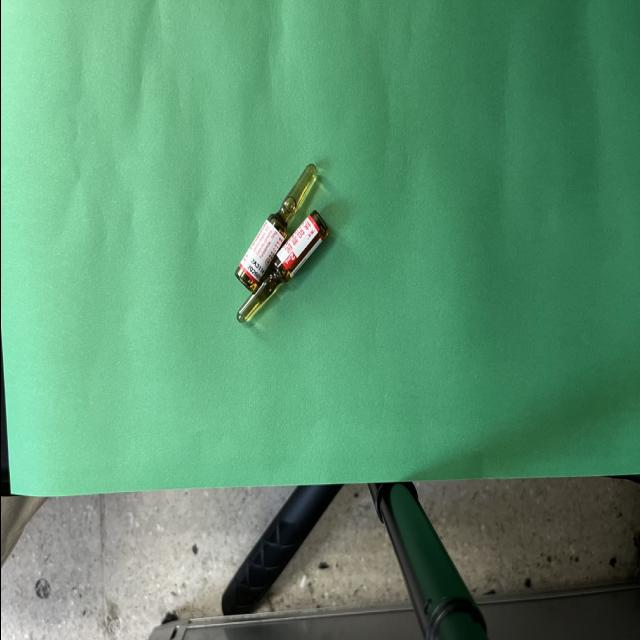Ampoules: (235, 164, 316, 291), (236, 211, 327, 323)
